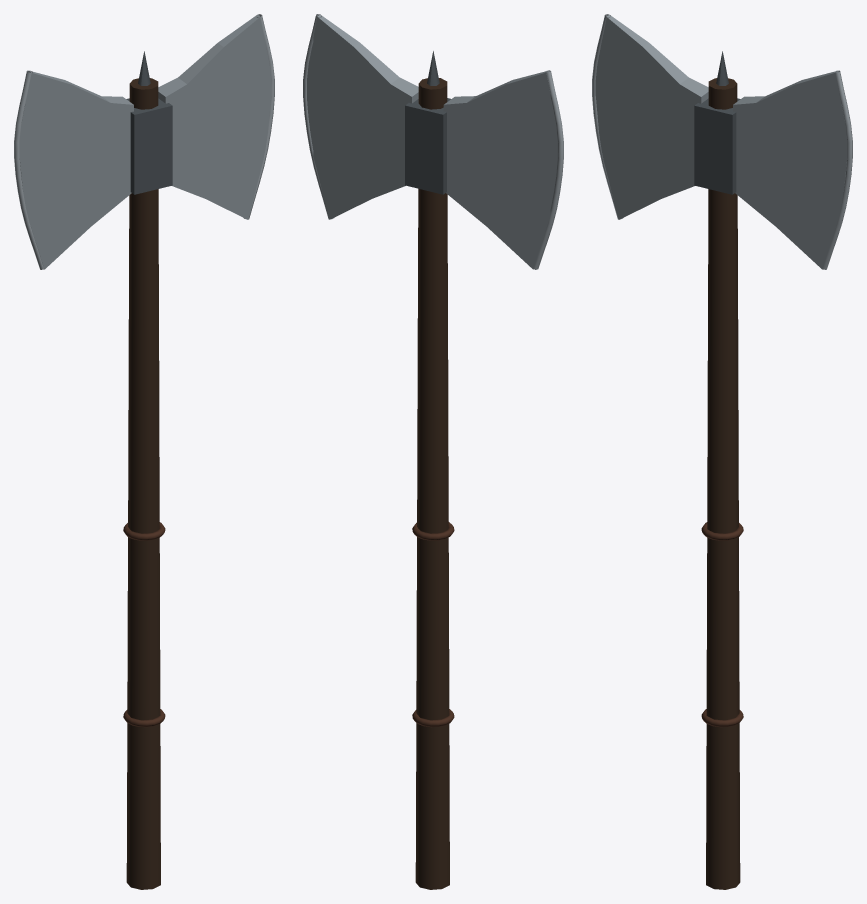
File: greataxe.glb
3 views of the same model, side by side, from view 1: azimuth 30°, elevation 25°; view 2: azimuth 150°, elevation 25°; view 3: azimuth 330°, elevation 25° (orthographic).
Visible parts, largest first — view 1: greataxe-haft, greataxe-blade-back, greataxe-blade, greataxe-eye, greataxe-edge-back, greataxe-edge; view 2: greataxe-haft, greataxe-blade-back, greataxe-blade, greataxe-eye, greataxe-edge-back, greataxe-edge; view 3: greataxe-haft, greataxe-blade, greataxe-blade-back, greataxe-eye, greataxe-edge, greataxe-edge-back.
Part boxes in pixels (<box>): greataxe-haft: <box>126,78,160,889</box>; greataxe-blade-back: <box>19,70,133,269</box>; greataxe-blade: <box>158,14,271,219</box>; greataxe-eye: <box>126,98,172,194</box>; greataxe-edge-back: <box>14,70,43,269</box>; greataxe-edge: <box>244,14,274,219</box>; greataxe-haft: <box>415,78,449,889</box>; greataxe-blade-back: <box>443,70,557,269</box>; greataxe-blade: <box>307,14,418,219</box>; greataxe-eye: <box>405,98,450,194</box>; greataxe-edge-back: <box>534,70,563,269</box>; greataxe-edge: <box>303,14,334,219</box>; greataxe-haft: <box>706,78,740,889</box>; greataxe-blade: <box>733,70,847,269</box>; greataxe-blade-back: <box>595,14,708,219</box>; greataxe-eye: <box>694,98,740,194</box>; greataxe-edge: <box>823,70,852,269</box>; greataxe-edge-back: <box>592,14,622,219</box>.
Bounding box in the file's own units: 0.3178 × 0.9807 × 0.0451.
